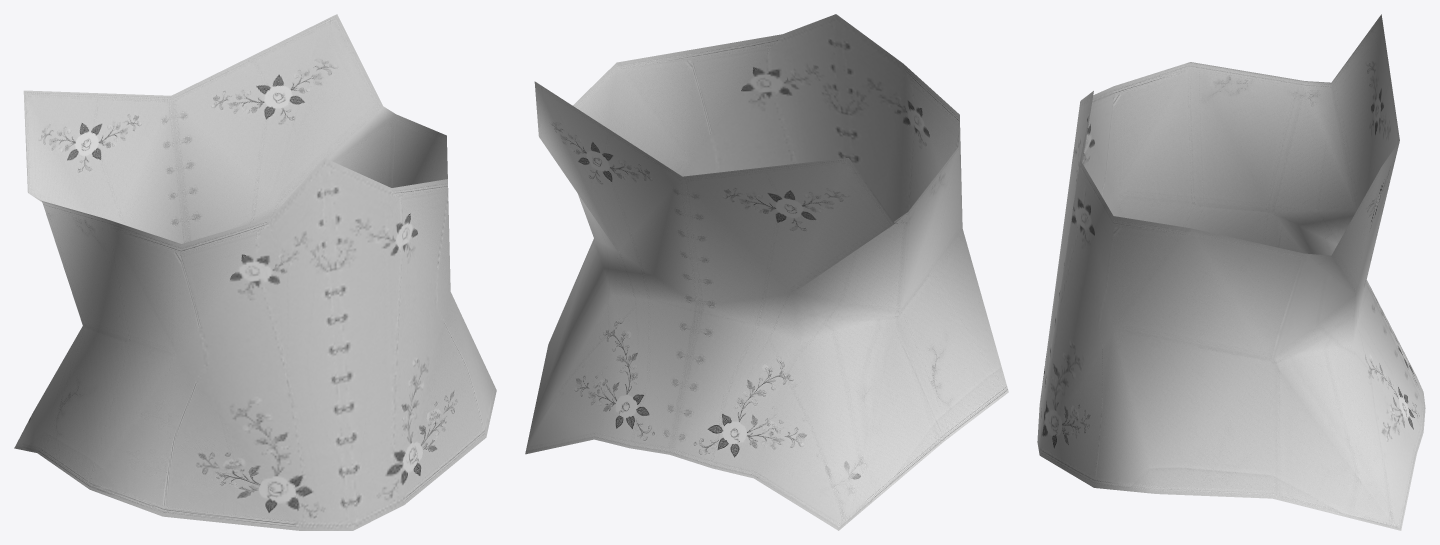
Rendered from Corset.glb.
3 views of the same model, side by side, from view 1: azimuth 30°, elevation 25°; view 2: azimuth 150°, elevation 25°; view 3: azimuth 270°, elevation 25° (orthographic).
Parts seen in each view (by area): view 1: Corset; view 2: Corset; view 3: Corset.
Part boxes in pixels (x1,y1,x2,y2): Corset: (14, 14, 496, 530); Corset: (525, 14, 1008, 530); Corset: (1037, 14, 1425, 530).
Bounding box in the file's own units: 5.41 × 4.64 × 4.48.
Materials: 1 (1 with a texture image).
